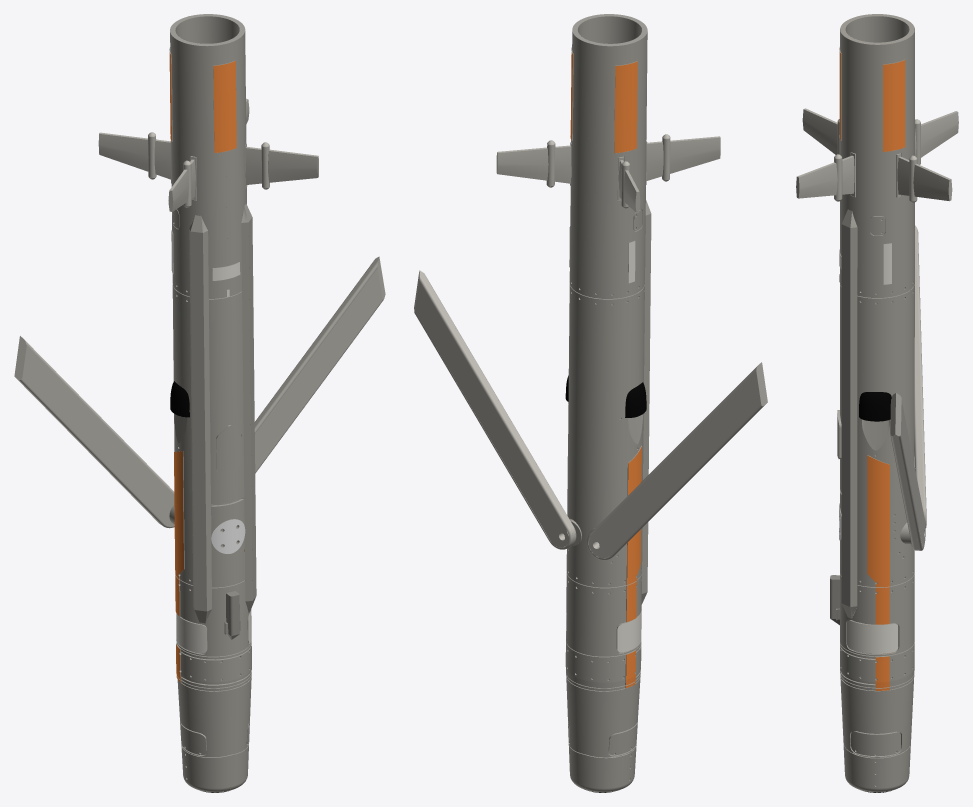
3 views of the same model, side by side, from view 1: azimuth 30°, elevation 25°; view 2: azimuth 150°, elevation 25°; view 3: azimuth 270°, elevation 25° (orthographic).
Visible parts, largest first — view 1: Part 1 (×5), Part 2; view 2: Part 1 (×5), Part 2; view 3: Part 1 (×6), Part 2.
Boxes of the visible parts, x1,y1,x2,y2 form: Part 1 (×5): (14, 14, 318, 792); Part 2: (211, 256, 385, 516); Part 1 (×5): (496, 14, 767, 792); Part 2: (414, 270, 576, 549); Part 1 (×6): (796, 14, 958, 792); Part 2: (890, 393, 925, 550).
Size of the model in its own units: 0.0653 by 0.1309 by 0.0256.
